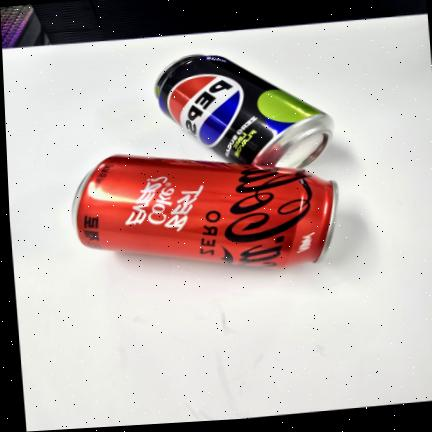can_coke_zero: (73, 155, 338, 269)
can_pepsi_zero: (156, 55, 334, 167)
